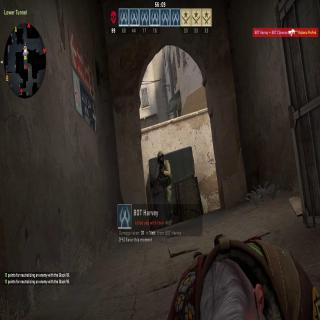CT-Body: (154, 148, 179, 221)
CT-Head: (156, 149, 164, 162)
